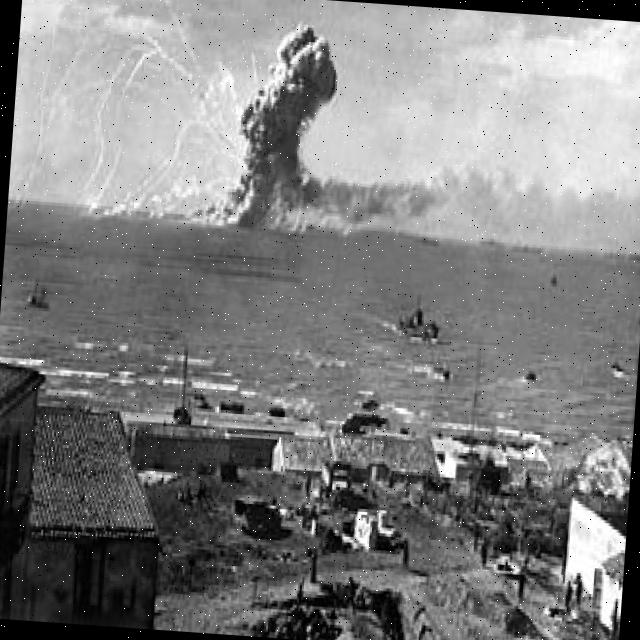explosion: (133, 24, 444, 270)
